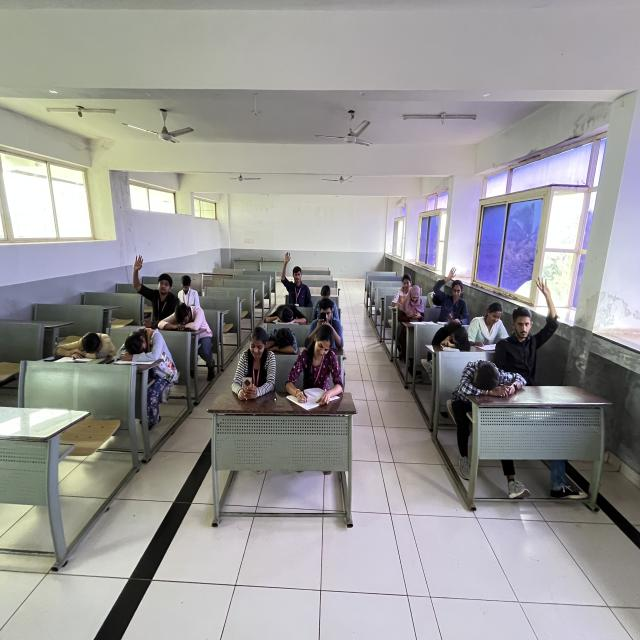Hand Rising: (504, 269, 563, 379), (130, 253, 178, 320), (280, 246, 316, 307), (433, 264, 470, 322)
Reading: (469, 300, 512, 358)
Sleeping: (448, 354, 528, 427), (112, 321, 184, 390), (159, 300, 219, 348), (52, 326, 122, 366), (427, 316, 473, 371), (262, 323, 306, 361), (261, 298, 310, 331)
Using Phone: (228, 322, 280, 400), (394, 283, 430, 343), (308, 292, 344, 347)
Writing: (282, 325, 356, 412)
